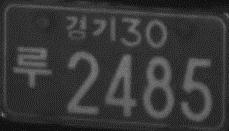0: (144, 18, 167, 49)
2: (65, 49, 100, 116)
3: (120, 16, 141, 47)
4: (102, 52, 138, 118)
5: (179, 55, 212, 122)
8: (141, 54, 175, 120)
경기_O: (64, 14, 117, 43)
루: (11, 45, 52, 88)
